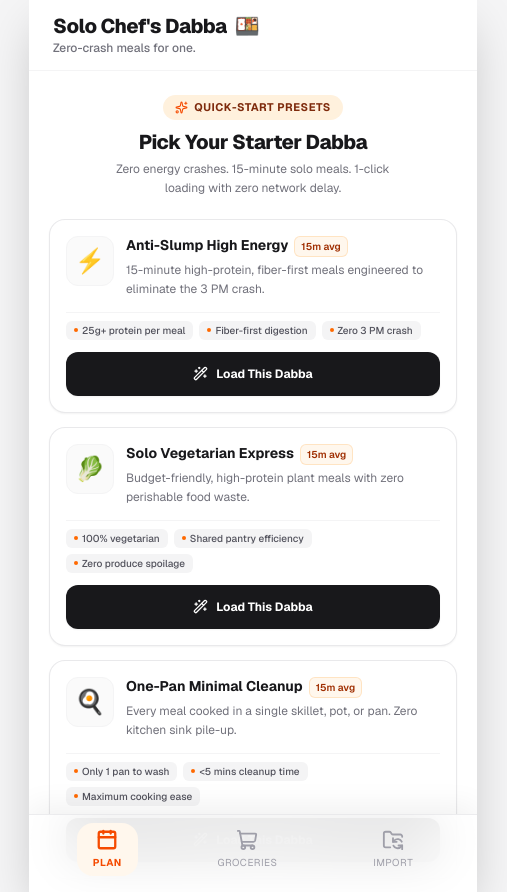
Page › shows empty state with curated starter presets when no plan is loaded
Expected: the heading "Pick Your Starter Dabba" is shown, [139,128,367,154]
Expected: the heading "Anti-Slump High Energy" is shown, [126,237,288,255]
Note: Click groceries
Click the button "Groceries" at (247, 850), box [201,823,294,876]
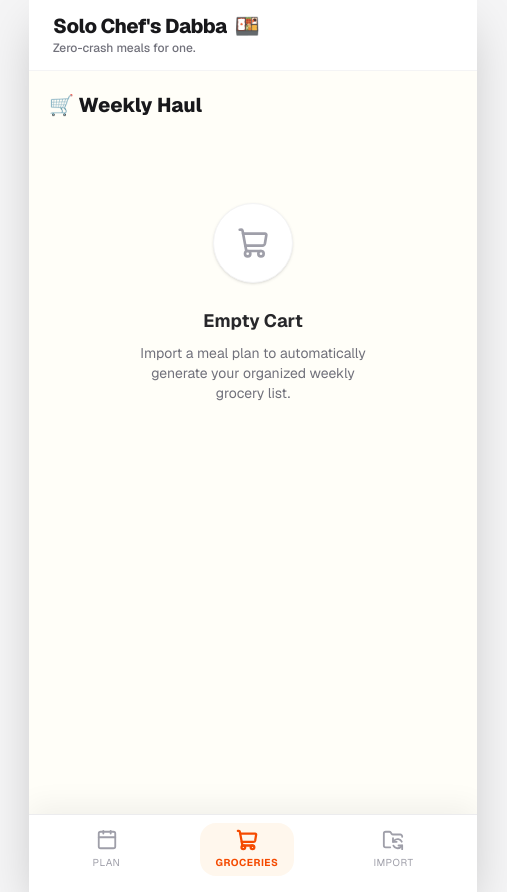
Expected: the heading "Empty Cart" is shown, [203,307,303,335]
